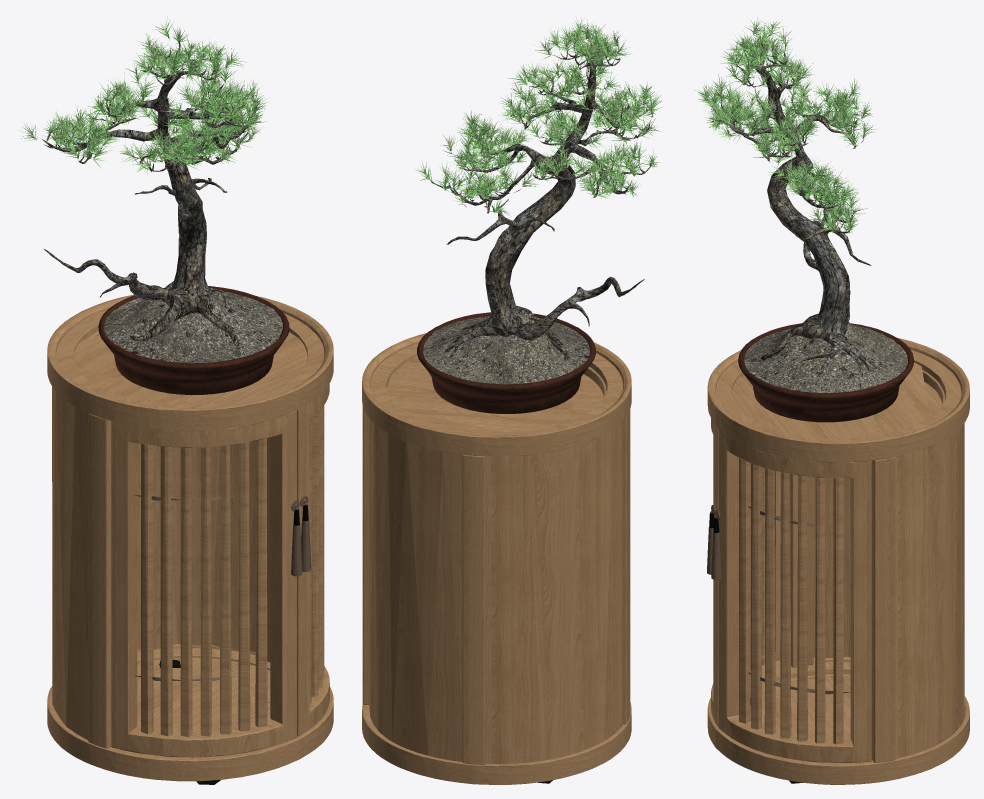
3 views of the same model, side by side, from view 1: azimuth 30°, elevation 25°; view 2: azimuth 150°, elevation 25°; view 3: azimuth 270°, elevation 25° (orthographic). The views are drawn at different scales.
Visible parts, largest first — view 1: xiadele_Circle068, xiadele_igla001, xiadele_Circle078, xiadele_Circle063, xiadele_Circle067, xiadele_Box1578962910, xiadele_Plane027, xiadele_Circle064, xiadele_Box1578962792, xiadele_Cylinder044, xiadele_Circle071, xiadele_Circle066 (+15 smaller); view 2: xiadele_Circle063, xiadele_Circle067, xiadele_igla001, xiadele_Circle078, xiadele_Box1578962910, xiadele_Box1578962794, xiadele_Plane027, xiadele_Circle064, xiadele_Cylinder044, xiadele_Circle066, xiadele_Object112, xiadele_Box1578962792 (+3 smaller); view 3: xiadele_Circle067, xiadele_Circle071, xiadele_igla001, xiadele_Circle078, xiadele_Box1578962910, xiadele_Box1578962793, xiadele_Plane027, xiadele_Circle064, xiadele_Cylinder044, xiadele_Circle066, xiadele_Circle063, xiadele_Line1789530999 (+14 smaller).
Part boxes in pixels (bbox=[...]): xiadele_Circle068: bbox=[111, 410, 296, 757]; xiadele_igla001: bbox=[18, 17, 268, 173]; xiadele_Circle078: bbox=[47, 294, 333, 430]; xiadele_Circle063: bbox=[52, 386, 88, 739]; xiadele_Circle067: bbox=[137, 441, 255, 651]; xiadele_Box1578962910: bbox=[42, 70, 258, 346]; xiadele_Plane027: bbox=[104, 290, 282, 363]; xiadele_Circle064: bbox=[47, 644, 333, 781]; xiadele_Box1578962792: bbox=[88, 413, 111, 748]; xiadele_Cylinder044: bbox=[98, 286, 289, 394]; xiadele_Circle071: bbox=[297, 384, 329, 735]; xiadele_Circle066: bbox=[73, 332, 307, 404]; xiadele_Circle063: bbox=[485, 421, 622, 763]; xiadele_Circle067: bbox=[369, 419, 462, 761]; xiadele_igla001: bbox=[416, 17, 662, 216]; xiadele_Circle078: bbox=[362, 333, 631, 456]; xiadele_Box1578962910: bbox=[435, 47, 656, 360]; xiadele_Box1578962794: bbox=[462, 454, 485, 764]; xiadele_Plane027: bbox=[423, 316, 589, 384]; xiadele_Circle064: bbox=[362, 702, 631, 784]; xiadele_Cylinder044: bbox=[417, 312, 595, 413]; xiadele_Circle066: bbox=[386, 356, 575, 431]; xiadele_Object112: bbox=[446, 199, 644, 340]; xiadele_Box1578962792: bbox=[622, 409, 630, 724]; xiadele_Circle067: bbox=[895, 423, 964, 758]; xiadele_Circle071: bbox=[718, 428, 871, 762]; xiadele_igla001: bbox=[695, 16, 876, 233]; xiadele_Circle078: bbox=[707, 338, 969, 462]; xiadele_Box1578962910: bbox=[708, 57, 880, 380]; xiadele_Box1578962793: bbox=[871, 457, 895, 762]; xiadele_Plane027: bbox=[744, 322, 907, 392]; xiadele_Circle064: bbox=[707, 657, 969, 784]; xiadele_Cylinder044: bbox=[738, 323, 914, 422]; xiadele_Circle066: bbox=[732, 362, 929, 438]; xiadele_Circle063: bbox=[813, 477, 850, 658]; xiadele_Line1789530999: bbox=[739, 458, 750, 723].
Size of the model in its own units: 561 by 1415 by 507.
Materials: 11 (5 with a texture image).
